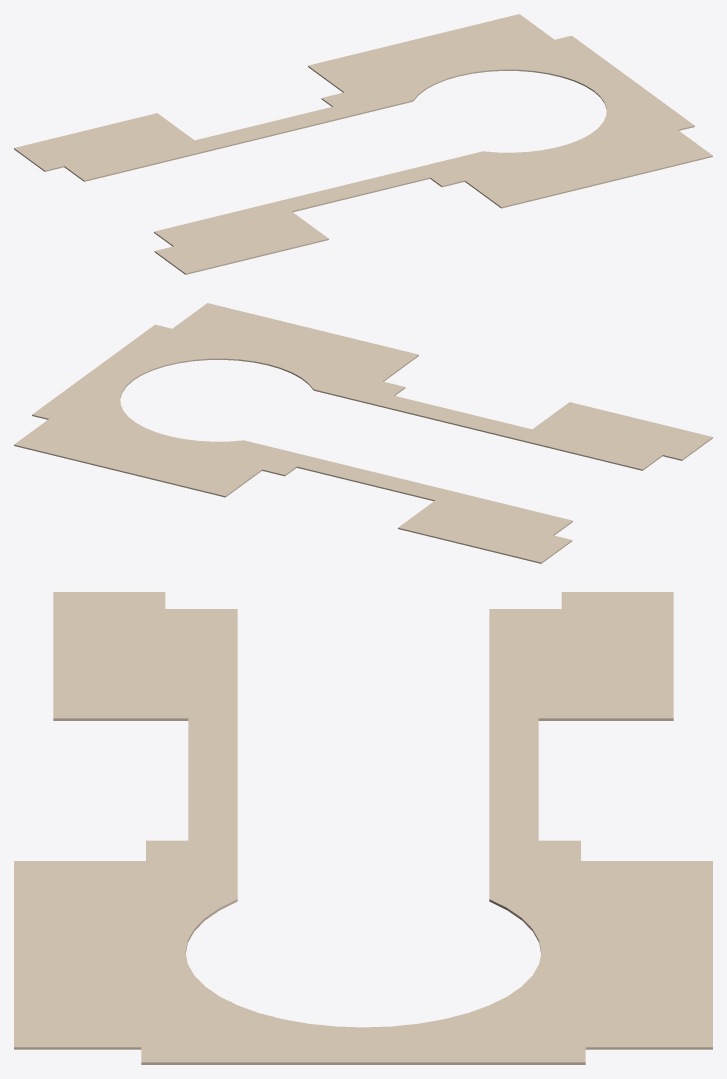
Rendered from BC_RoofGround_A.fbx.
3 renders of one model, top to bottom at view 1: azimuth 30°, elevation 25°; view 2: azimuth 150°, elevation 25°; view 3: azimuth 270°, elevation 25°, orthographic. The views are drawn at different scales.
Parts seen in each view (by area): view 1: BC_RoofGround_A; view 2: BC_RoofGround_A; view 3: BC_RoofGround_A.
Part boxes in pixels (<box>): BC_RoofGround_A: <box>14,14,712,274</box>; BC_RoofGround_A: <box>14,303,712,563</box>; BC_RoofGround_A: <box>14,592,712,1064</box>.
Bounding box in the file's own units: 9612 × 23.16 × 6037.
